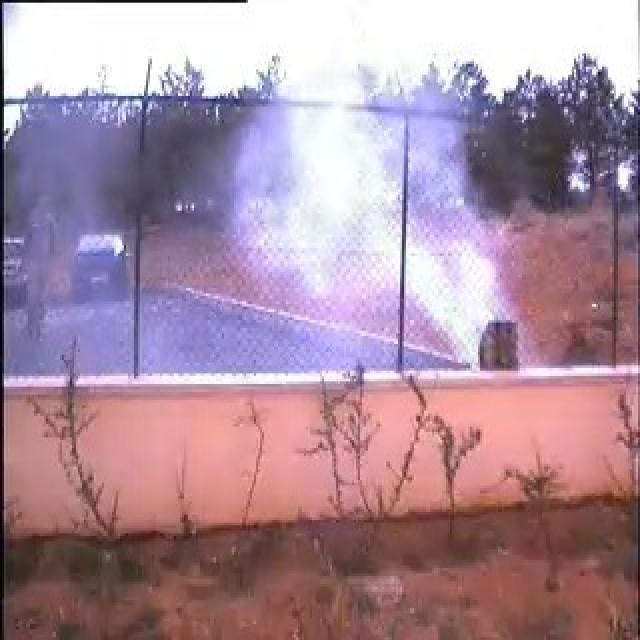Smoke: (230, 68, 506, 364)
